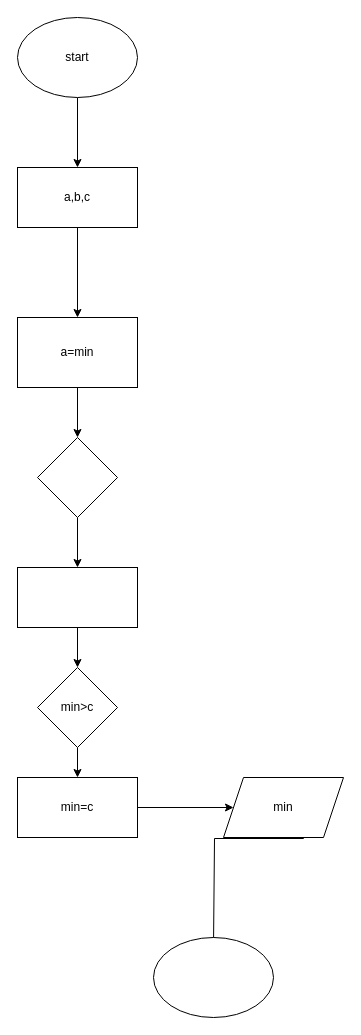
Some shapes in this 361 by 1035 pixel diagram are drawn without their labels. Each missing label, with the centre of its shape:
"end" belongs at point 213,977.
"min=b" belongs at point 77,597.
"min>b" belongs at point 77,477.
